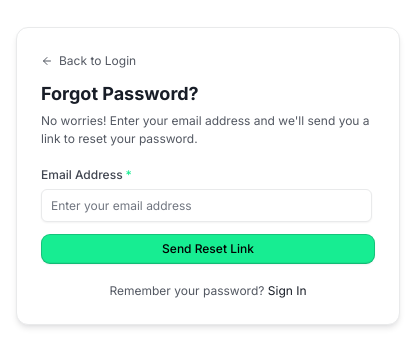
ForgotPasswordPage › Email Validation › should clear error when user starts typing after error
Click the field with placeholder "Enter your email address". click: {"x": 206, "y": 205}
box: [41,189,372,222]
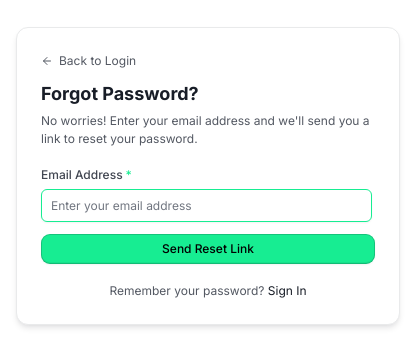
Press Tab
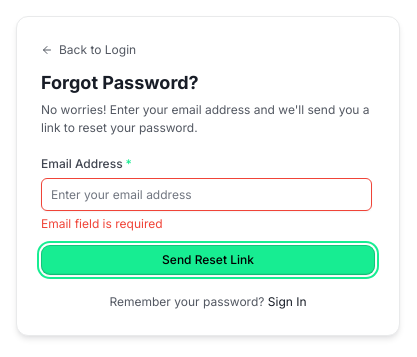
Expected: the text "Email field is required" is shown, [41,216,163,231]
Type "test@example.com" into the field with placeholder "Enter your email address". click: {"x": 206, "y": 194}
box: [41,178,372,210]
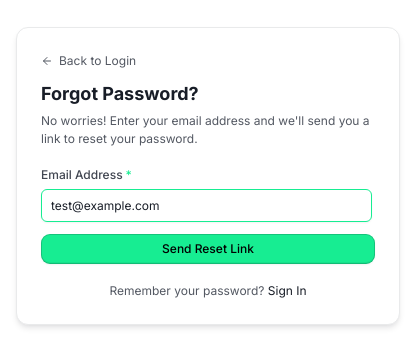
Expected: the text "Email field is required" is gone
